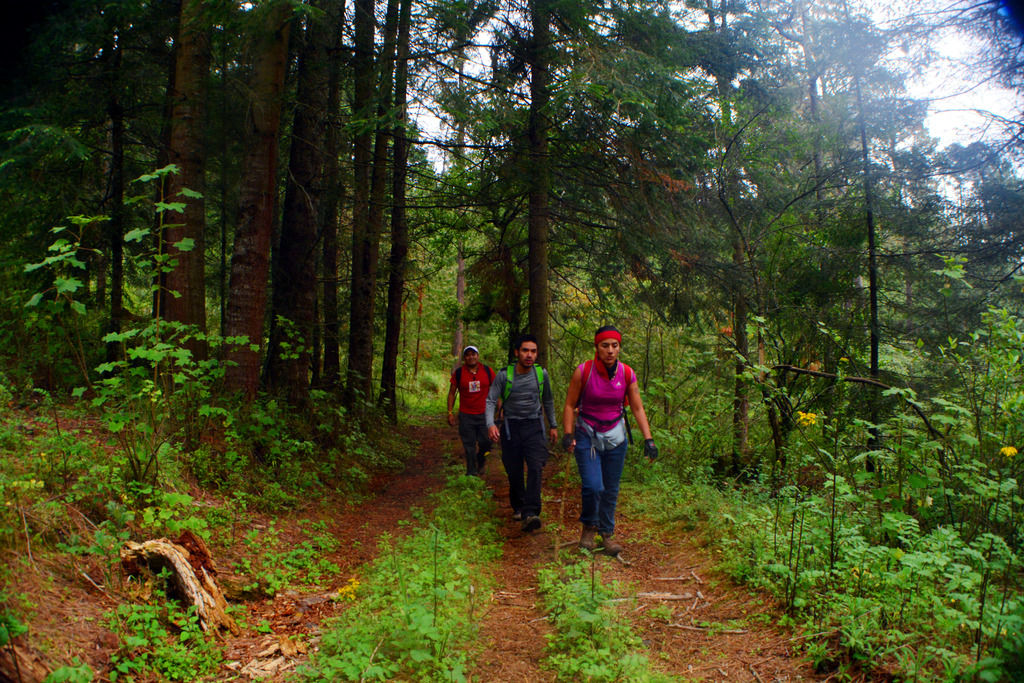Tree: (0, 2, 1022, 485)
